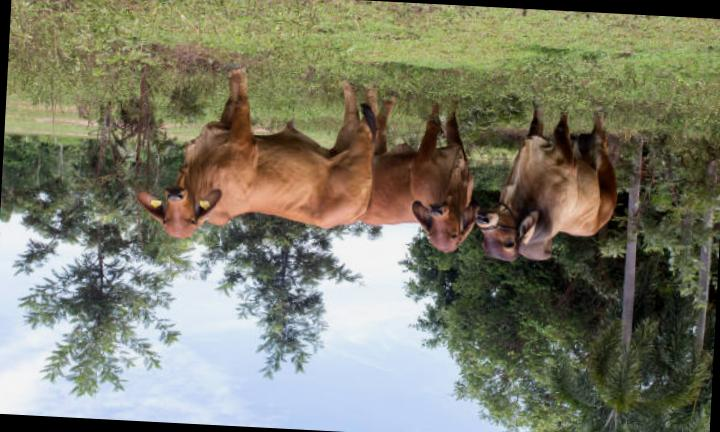Brahman: (137, 69, 375, 237), (477, 107, 616, 261), (477, 108, 616, 261), (359, 101, 478, 252)
